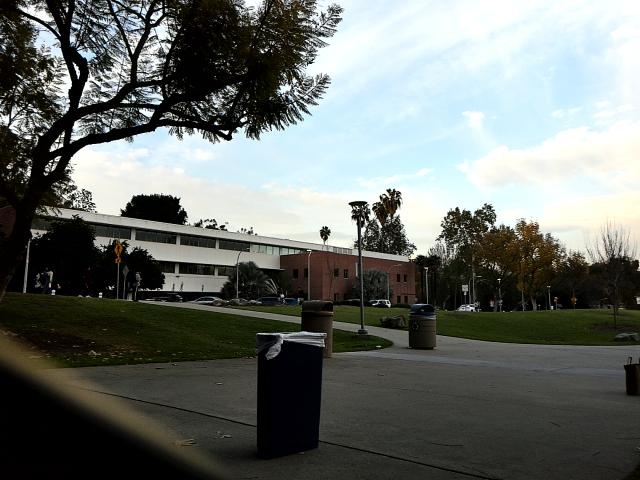trashcan_open: (253, 333, 323, 452)
